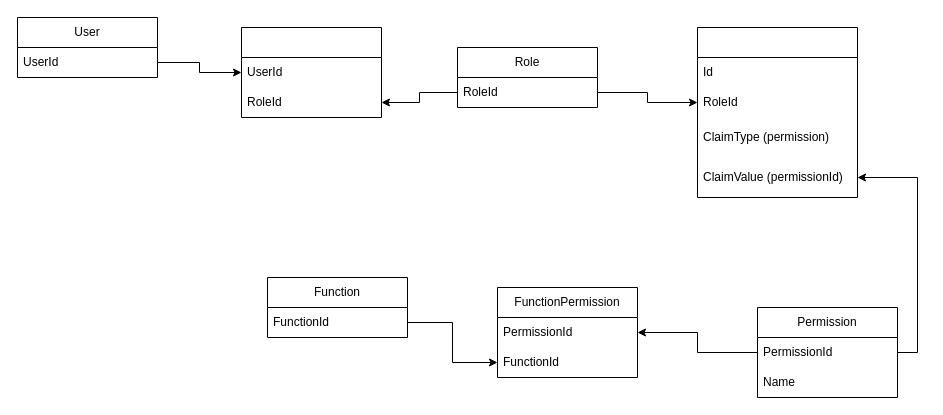
The diagram is 943 pixels wide and 415 high, and some of its shapes have lost their labels. The box of each missing label's shape, as (x1, y1, x2, y2) in pixels:
RoleClaim: (696, 26, 858, 198)
UserRole: (240, 26, 382, 118)
